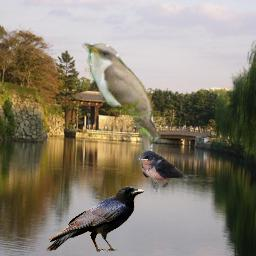Crow: (46, 185, 144, 252)
Cuckoo: (79, 39, 163, 195)
Swallow: (137, 150, 187, 188)
